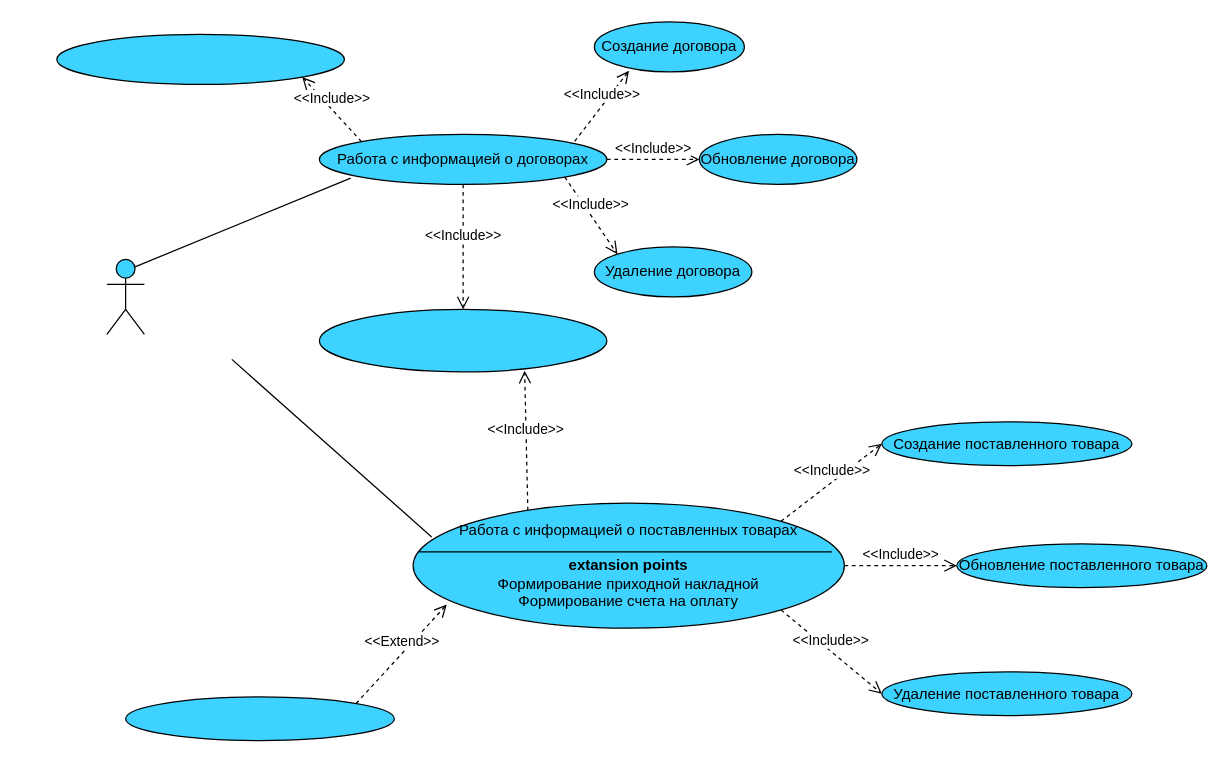
Image size: 1229x763. Some labels were removed from this diagram. Here are the shapes that lost their labels. From the top down, the centre of each, then its label:
(200,58): Просмотр информации о договорах
(125,296): Сотрудник отдела маркетинга
(462,340): Просмотр товаров, поставленных по договору
(259,718): Формирование приходной накладной
